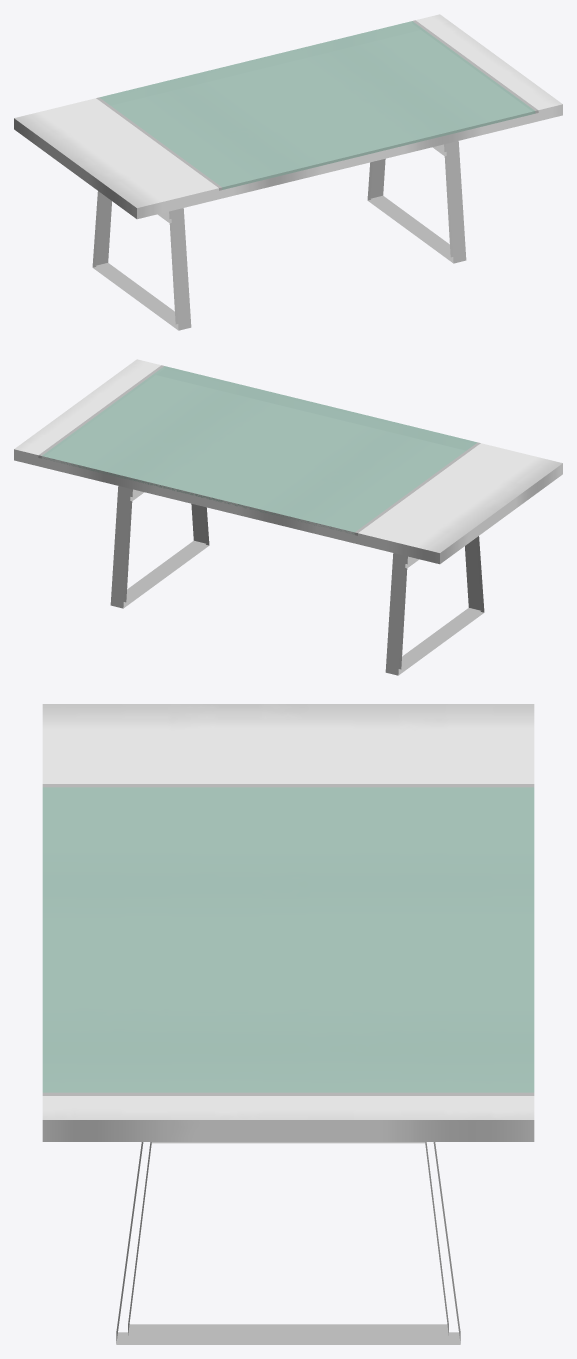
Rendered from table2.dae.
The picture shows the model from 3 angles, top to bottom: view 1: azimuth 30°, elevation 25°; view 2: azimuth 150°, elevation 25°; view 3: azimuth 270°, elevation 25°; orthographic projection. The views are drawn at different scales.
Visible parts, largest first — view 1: SketchUp (×4), instance_0 (×2), instance_1 (×2); view 2: SketchUp (×5), instance_0 (×2), instance_1 (×2); view 3: SketchUp (×4), instance_1 (×2).
Boxes of the visible parts, x1,y1,x2,y2 form: SketchUp (×4): (14, 14, 562, 219); instance_0 (×2): (92, 191, 191, 330); instance_1 (×2): (367, 141, 466, 263); SketchUp (×5): (14, 359, 562, 564); instance_0 (×2): (385, 536, 484, 675); instance_1 (×2): (110, 486, 209, 608); SketchUp (×4): (42, 704, 534, 1141); instance_1 (×2): (116, 1142, 460, 1344).
Size of the model in its own units: 78.74 by 39.37 by 26.61.
